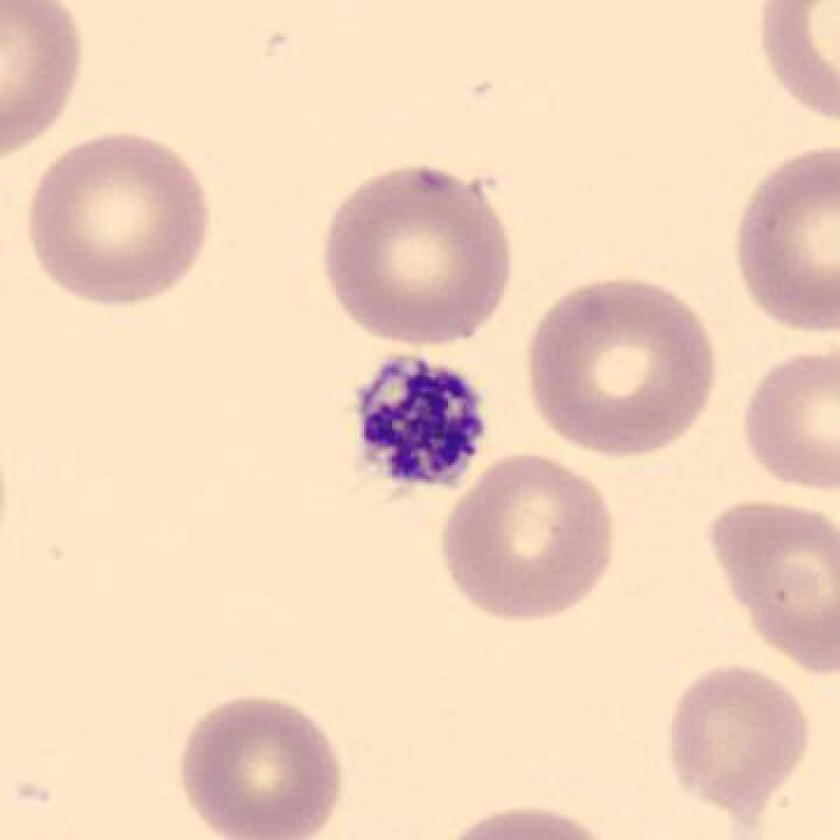platelets: (337, 346, 496, 505)
